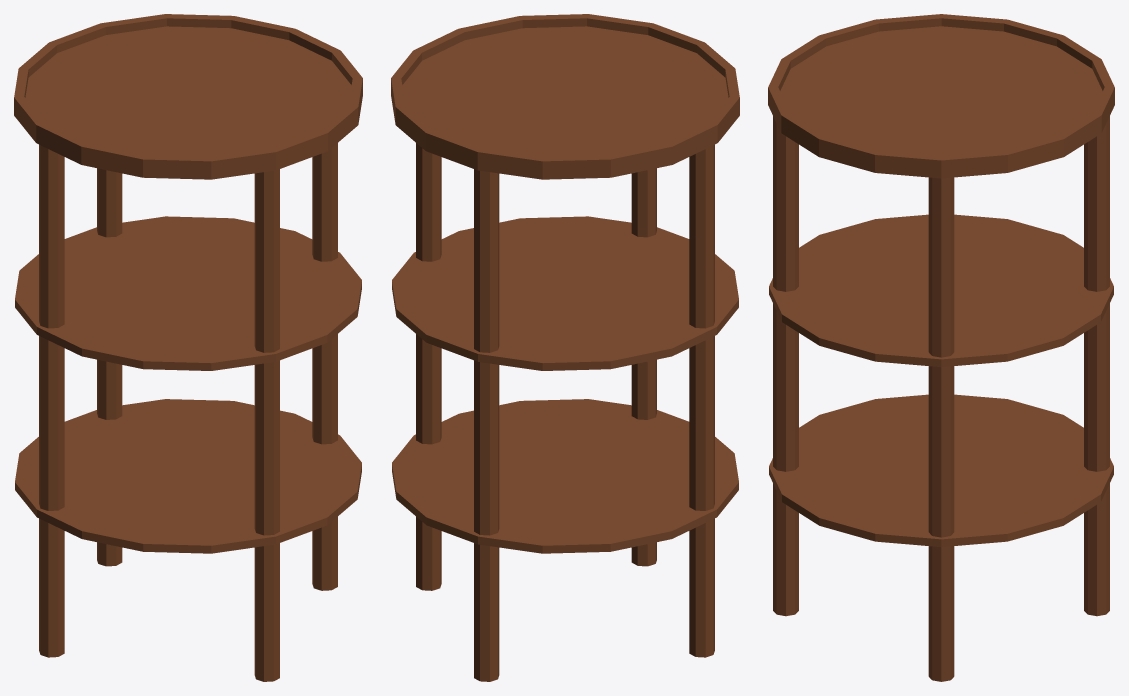
Rendered from tablecorner03.gltf.
3 views of the same model, side by side, from view 1: azimuth 30°, elevation 25°; view 2: azimuth 150°, elevation 25°; view 3: azimuth 270°, elevation 25° (orthographic).
Parts seen in each view (by area): view 1: Cylinder; view 2: Cylinder; view 3: Cylinder.
Part boxes in pixels (left/top/right/bottom): Cylinder: left=14, top=14, right=362, bottom=681; Cylinder: left=391, top=14, right=739, bottom=681; Cylinder: left=768, top=14, right=1114, bottom=681.
Size of the model in its own units: 0.4349 by 0.7246 by 0.4349.
Materials: 1 (1 with a texture image).
